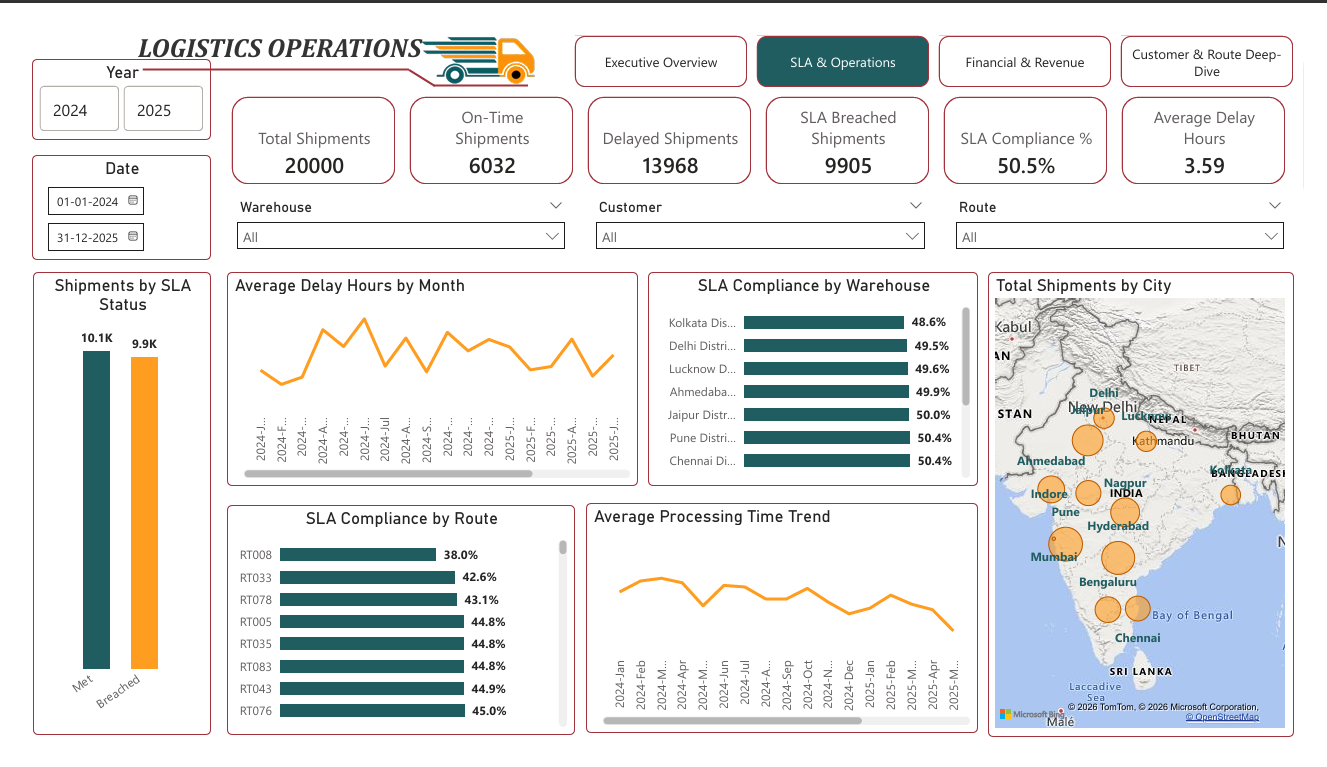

What the dashboard file says about the page in this screenshot:
{"tool":"powerbi","page":{"name":"SLA & Operations","canvas":[1280,720],"ordinal":1},"visuals":[{"type":"image","box":[395.7,0,120,64.3],"z":0,"group":"g2"},{"type":"shape","box":[118.3,27.5,268.3,29.2],"z":0,"group":"g1"},{"type":"shape","box":[409.1,48.3,95.8,19.2],"z":1000,"group":"g1"},{"type":"cardVisual","fields":{"Data":["Measure.Total Shipments","Measure.On-Time Shipments","Measure.Delayed Shipments","Measure.SLA Breached Shipments","Measure.SLA Compliance %","Measure.Average Delay Hours"]},"box":[202.8,64.7,1067.3,97],"z":1000},{"type":"shape","box":[383.8,41.2,28.5,18.1],"z":2000,"group":"g1"},{"type":"slicer","title":"Date","fields":{"Values":["DimDate.Date"]},"box":[8.2,127.6,178.4,105.7],"z":2000},{"type":"slicer","fields":{"Values":["DimWarehouse.WarehouseName"]},"box":[202.8,166.7,348.3,65.9],"z":3000},{"type":"slicer","fields":{"Values":["DimCustomer.CustomerName"]},"box":[562.3,166.7,348.3,66],"z":4000},{"type":"slicer","fields":{"Values":["DimRoute.RouteID"]},"box":[921.8,166.7,348.3,66],"z":5000},{"type":"advancedSlicerVisual","fields":{"Values":["DimDate.Year"]},"box":[8.2,31.6,178.4,81],"z":6000},{"type":"clusteredColumnChart","title":"Shipments by SLA Status","fields":{"Category":["FactShipment.SLAStatus"],"Y":["Measure.Total Shipments"]},"box":[8.7,245.1,177.9,462.8],"z":7000},{"type":"lineChart","title":"Average Delay Hours by Month","fields":{"Category":["DimDate.YearMonth"],"Y":["Measure.Average Delay Hours"]},"box":[203.5,245.2,410.7,213.6],"z":8000},{"type":"lineChart","title":"Average Processing Time Trend","fields":{"Category":["DimDate.YearMonth"],"Y":["Measure.Average Processing Time Hours"]},"box":[562.4,476.5,391.8,230],"z":9000},{"type":"clusteredBarChart","title":"SLA Compliance by Warehouse","fields":{"Category":["DimWarehouse.WarehouseName"],"Y":["Measure.SLA Compliance %"]},"box":[624.3,245.2,329.9,213.6],"z":10000},{"type":"clusteredBarChart","title":"SLA Compliance by Route","fields":{"Category":["DimRoute.RouteID"],"Y":["Measure.SLA Compliance %"]},"box":[203.5,477.7,347.6,230],"z":11000},{"type":"map","fields":{"Category":["DimCustomer.City"],"Size":["Measure.Total Shipments"]},"box":[964.3,245.2,305.8,465.1],"z":12000},{"type":"pageNavigator","box":[551.4,8.6,718.6,51.4],"z":13000},{"type":"textbox","box":[97.1,0,311.4,57.1],"z":15000,"group":"g2"},{"type":"group","id":"g1","title":"Group 1","box":[118.3,27.5,386.7,40],"z":17002,"group":"g2"},{"type":"group","id":"g2","title":"Group 2","box":[97.1,0,418.6,67.5],"z":17003}]}

Visuals, with their boxes in screenshot pixels (x1, y1, x2, y2), scaled from the page's 1280x720 canvas onto the 1327x767 screenshot:
image: pyautogui.locateOnScreen(410, 0, 535, 68)
shape: pyautogui.locateOnScreen(123, 29, 401, 60)
shape: pyautogui.locateOnScreen(424, 51, 523, 72)
cardVisual - Measure.Total Shipments x Measure.On-Time Shipments: pyautogui.locateOnScreen(210, 69, 1317, 172)
shape: pyautogui.locateOnScreen(398, 44, 427, 63)
"Date" slicer: pyautogui.locateOnScreen(9, 136, 193, 249)
slicer - DimWarehouse.WarehouseName: pyautogui.locateOnScreen(210, 178, 571, 248)
slicer - DimCustomer.CustomerName: pyautogui.locateOnScreen(583, 178, 944, 248)
slicer - DimRoute.RouteID: pyautogui.locateOnScreen(956, 178, 1317, 248)
advancedSlicerVisual - DimDate.Year: pyautogui.locateOnScreen(9, 34, 193, 120)
"Shipments by SLA Status" clusteredColumnChart: pyautogui.locateOnScreen(9, 261, 193, 754)
"Average Delay Hours by Month" lineChart: pyautogui.locateOnScreen(211, 261, 637, 489)
"Average Processing Time Trend" lineChart: pyautogui.locateOnScreen(583, 508, 989, 753)
"SLA Compliance by Warehouse" clusteredBarChart: pyautogui.locateOnScreen(647, 261, 989, 489)
"SLA Compliance by Route" clusteredBarChart: pyautogui.locateOnScreen(211, 509, 571, 754)
map - DimCustomer.City x Measure.Total Shipments: pyautogui.locateOnScreen(1000, 261, 1317, 757)
pageNavigator: pyautogui.locateOnScreen(572, 9, 1317, 64)
textbox: pyautogui.locateOnScreen(101, 0, 423, 61)
"Group 1" group: pyautogui.locateOnScreen(123, 29, 524, 72)
"Group 2" group: pyautogui.locateOnScreen(101, 0, 535, 72)
